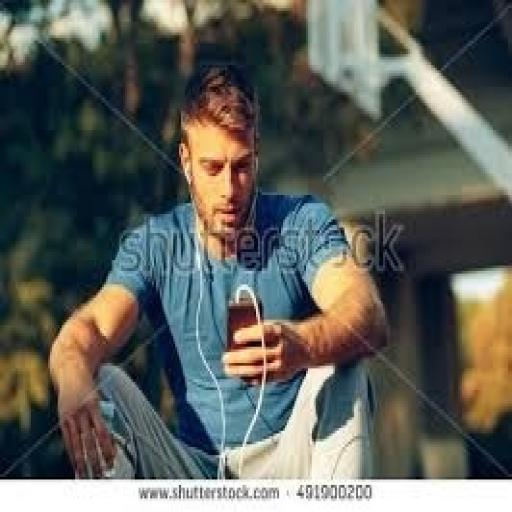listening_to_music: (44, 60, 389, 480)
